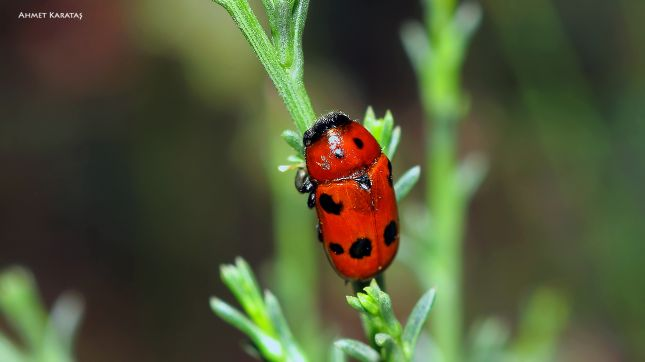Clytra_novempunctata: (295, 106, 404, 287)
